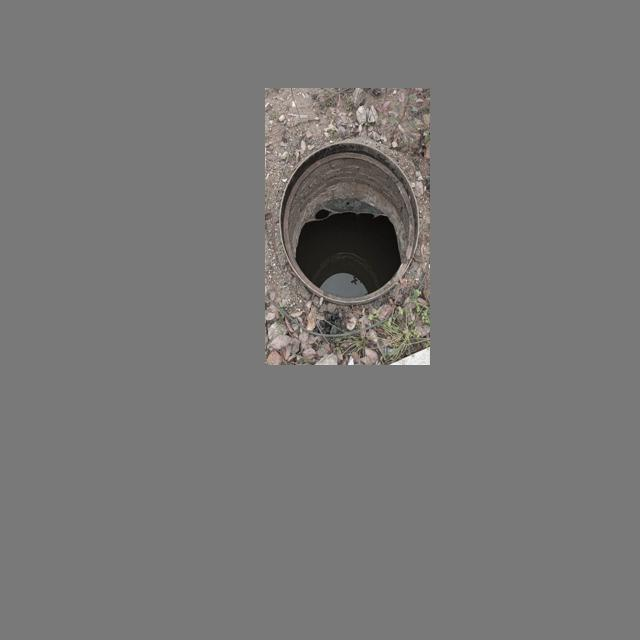lose: (277, 135, 423, 306)
